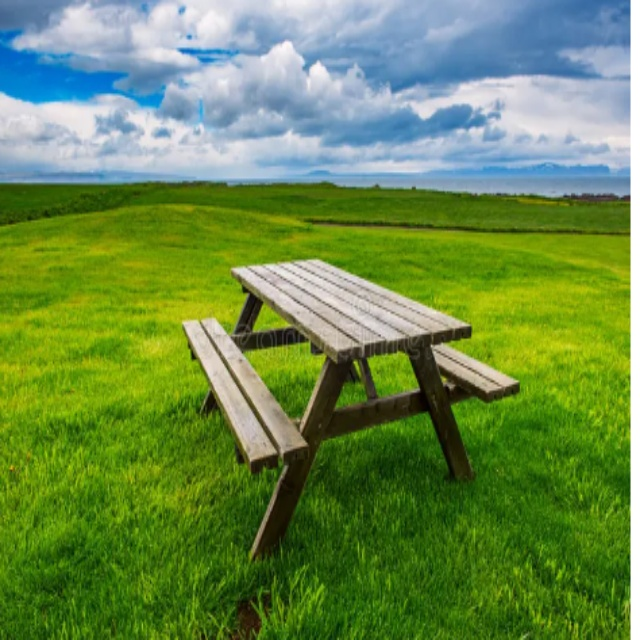obstacle: (181, 233, 523, 567)
